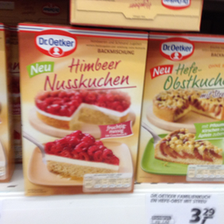cake: (17, 23, 151, 197), (138, 30, 223, 190)
